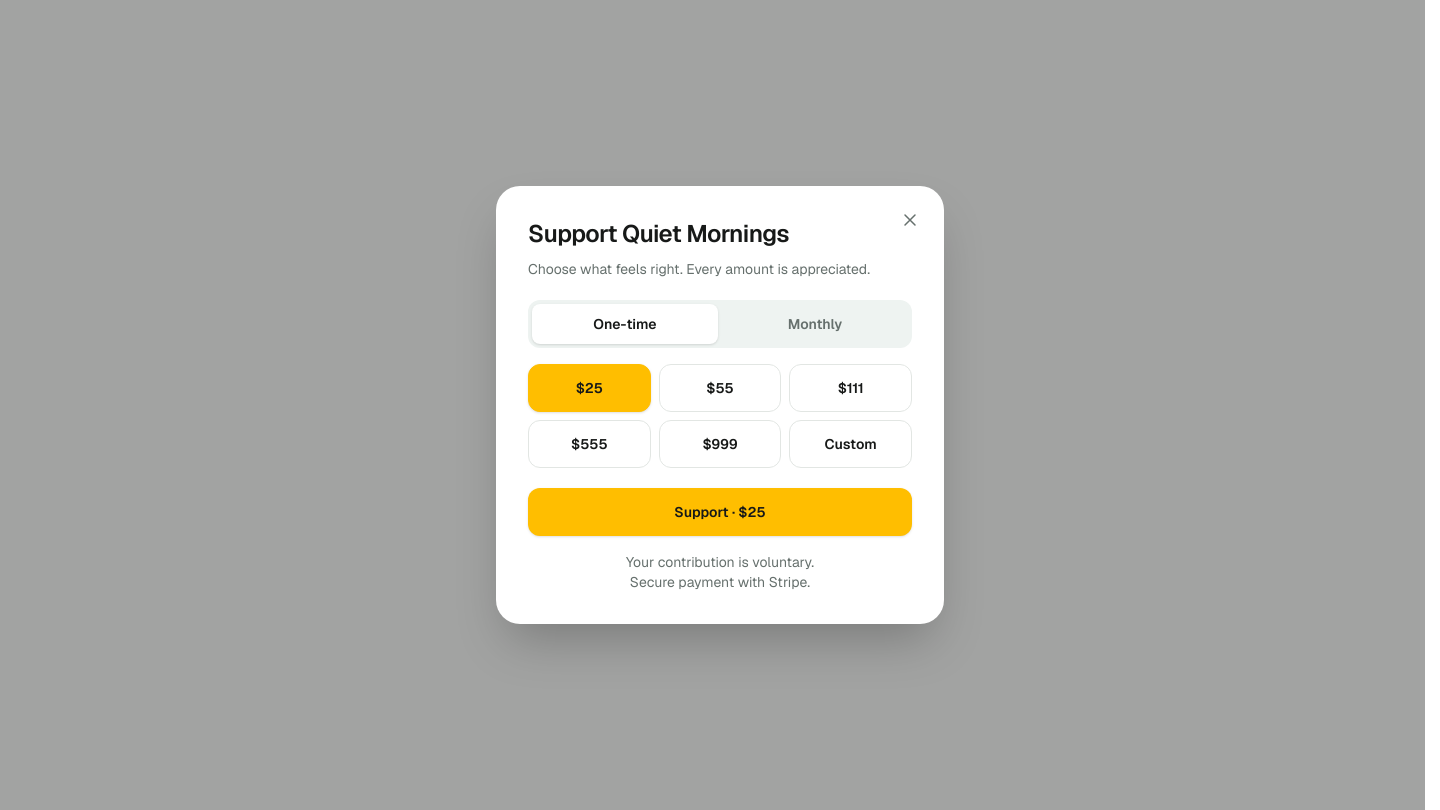
Test case: SupportModal: paying › start -> simulated payment -> confirmed -> thank-you screen
Step 1. Click the button "Support · $25" → (720, 512), box [528,488,912,536]
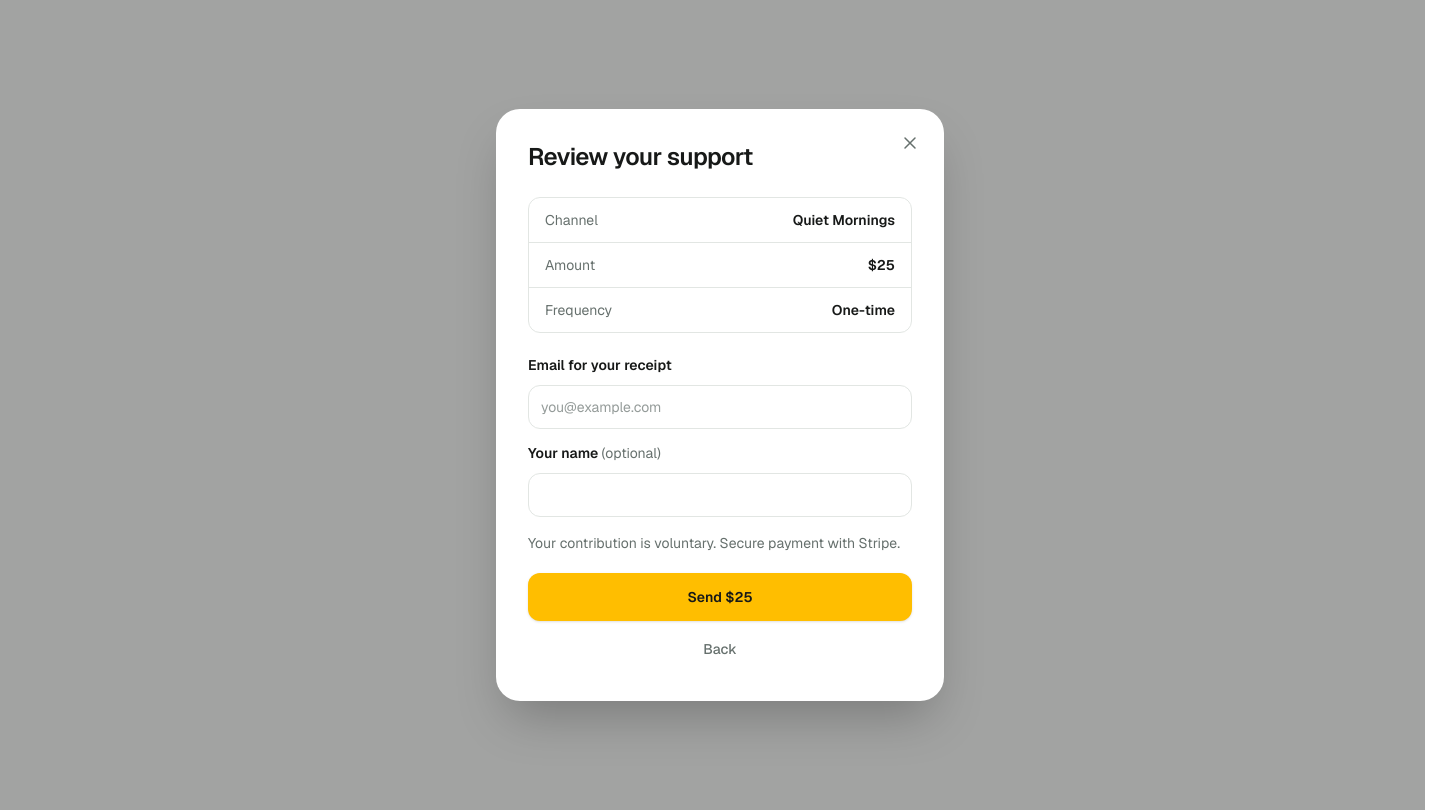
Step 2. Type "  sarah@example.com " into the field labelled "Email for your receipt" → (720, 407), box [528,385,912,429]
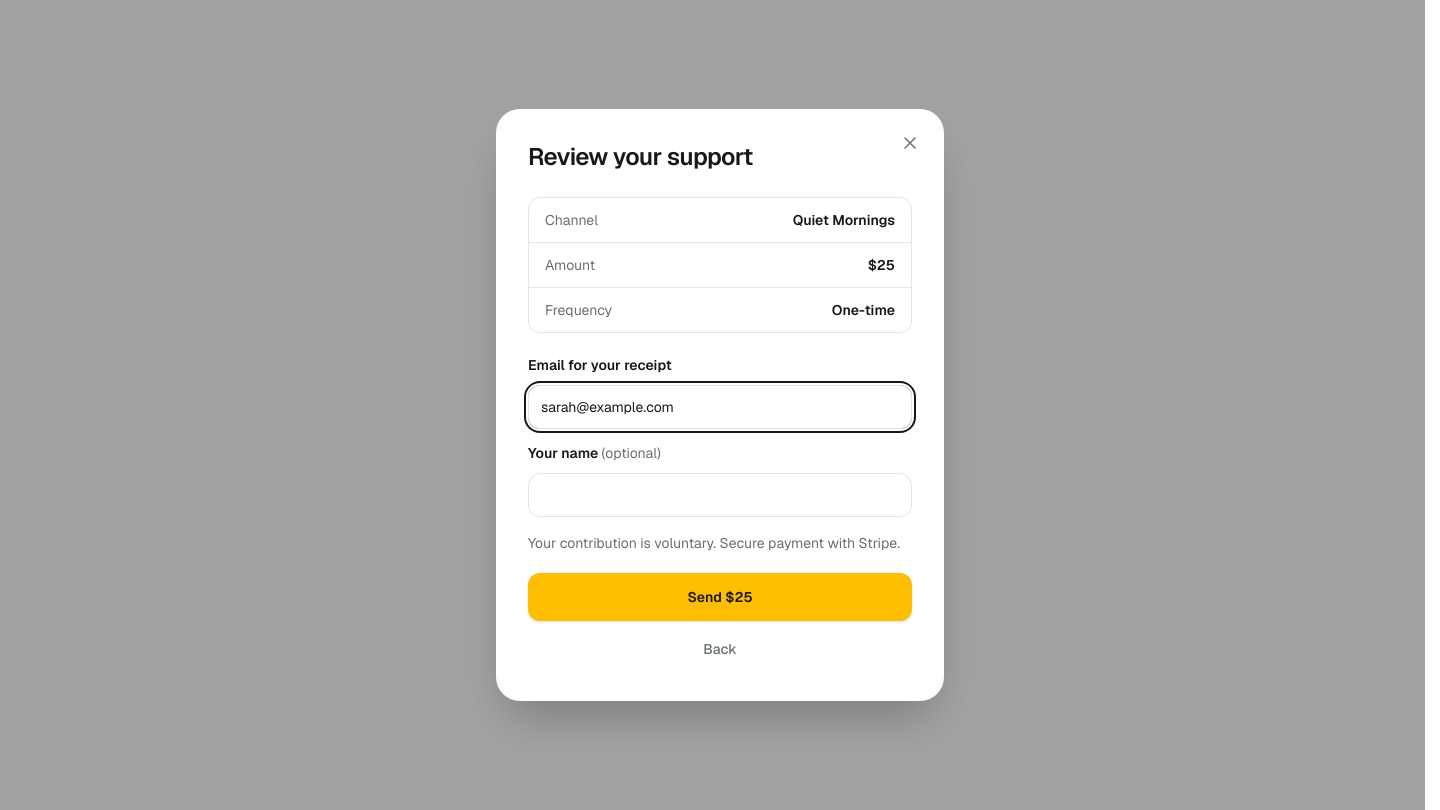
Step 3. Type "Sarah" into the field labelled "Your name (optional)" → (720, 495), box [528,473,912,517]
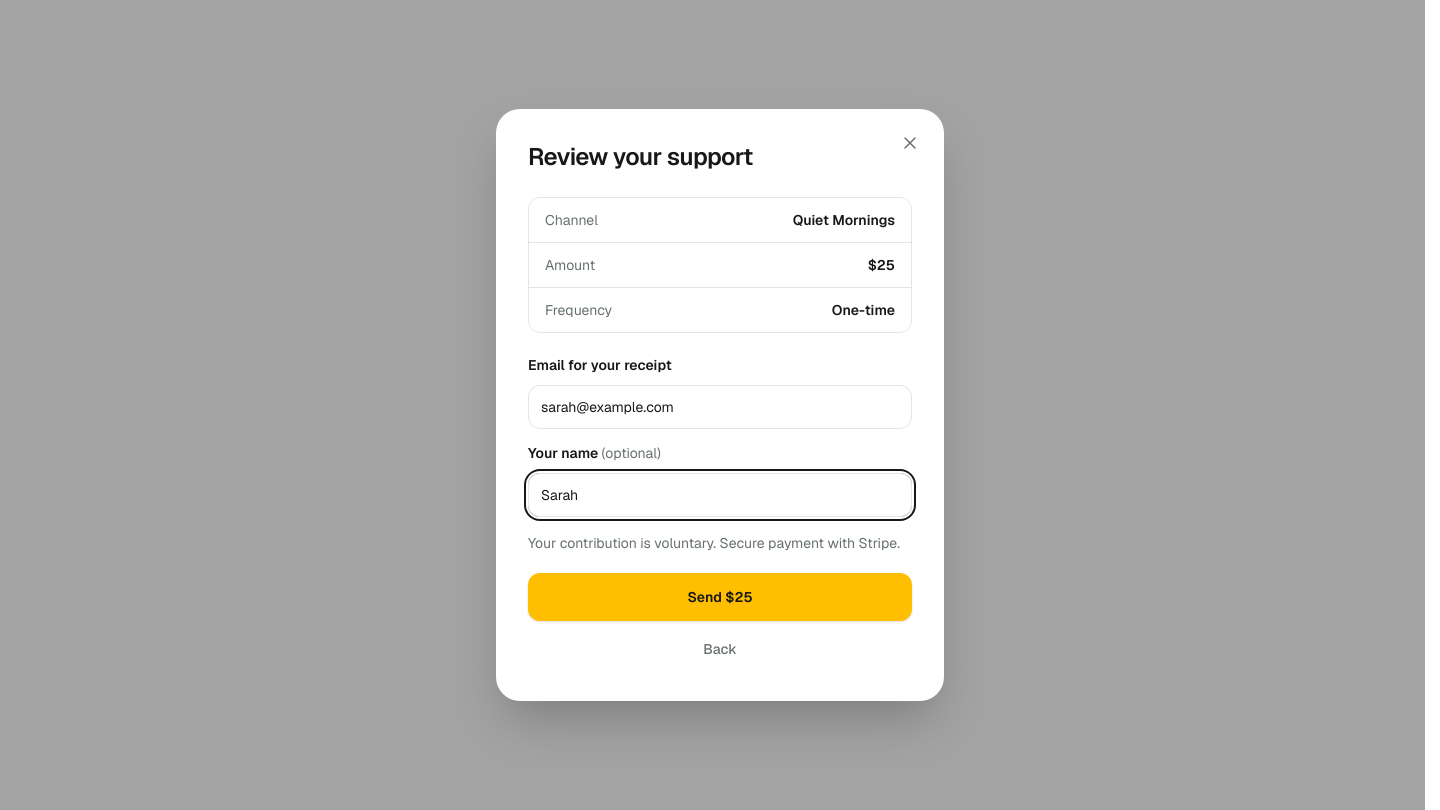
Step 4. Click the button "Send $25" → (720, 597), box [528,573,912,621]
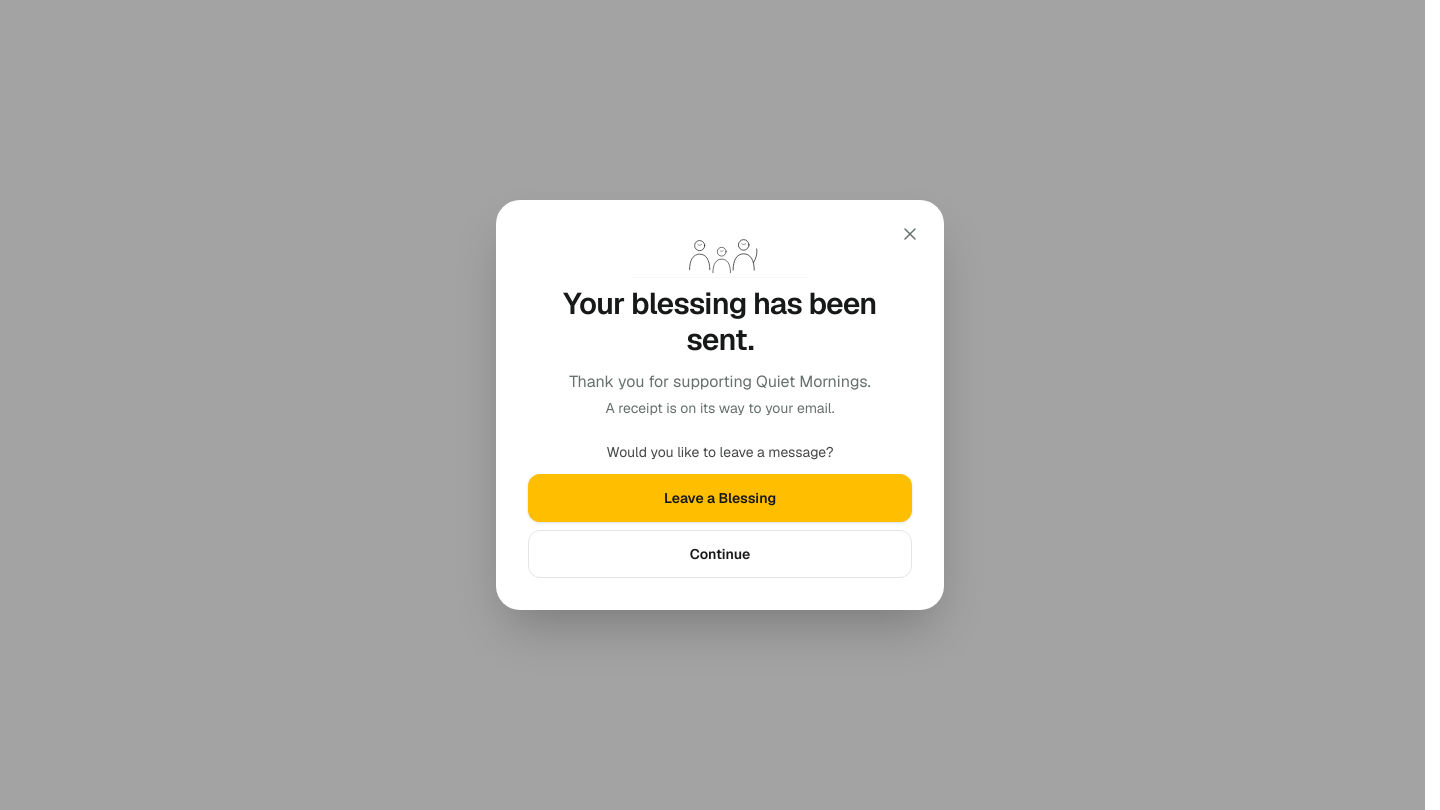
expect the heading "Your blessing has been sent." is shown: met, box [563,284,877,359]
